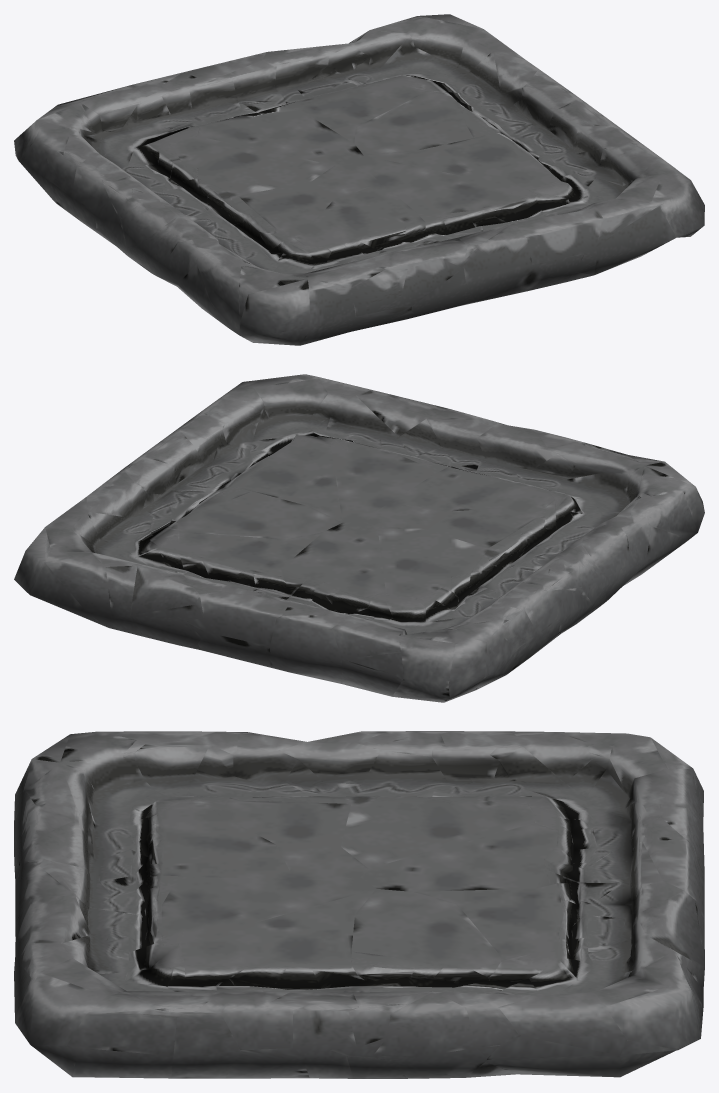
The model's file is pressure_plate.glb.
3 renders of one model, top to bottom at view 1: azimuth 30°, elevation 25°; view 2: azimuth 150°, elevation 25°; view 3: azimuth 270°, elevation 25°, orthographic. The views are drawn at different scales.
Bounding box in the file's own units: 2 × 0.2367 × 2.
1 material, 1 textured.
